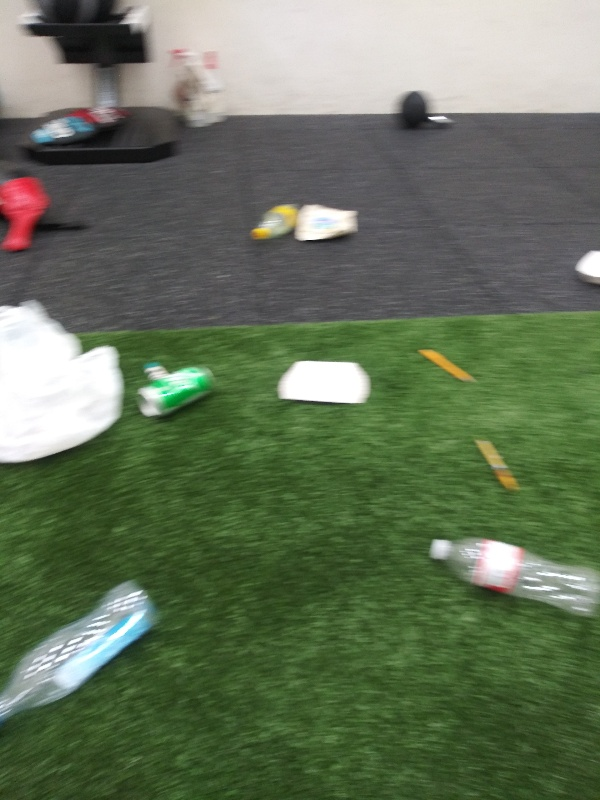bag: (291, 198, 361, 248)
bottle: (1, 575, 164, 725), (420, 532, 600, 630), (248, 196, 302, 244)
can: (135, 357, 218, 421)
plate: (272, 358, 375, 416), (570, 244, 600, 290)
